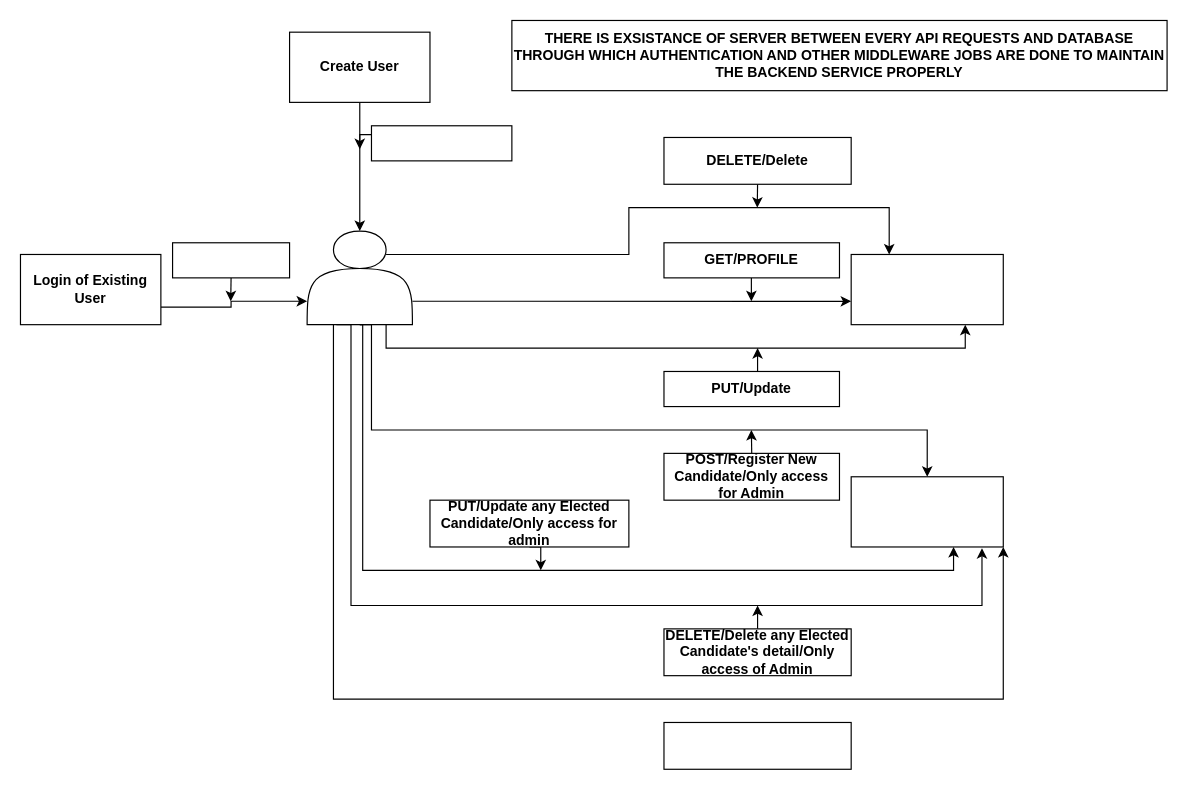
The diagram is 1188 pixels wide and 791 high, and some of its shapes have lost their labels. Each missing label, with the box of its shape:
POST/Login: (171, 242, 290, 278)
POST/Signup: (370, 125, 512, 161)
POST/Vote any candidate/Open for all users except admin: (663, 721, 851, 769)
User's Database: (850, 253, 1003, 325)
Voting Candidate's Database: (850, 476, 1003, 547)
